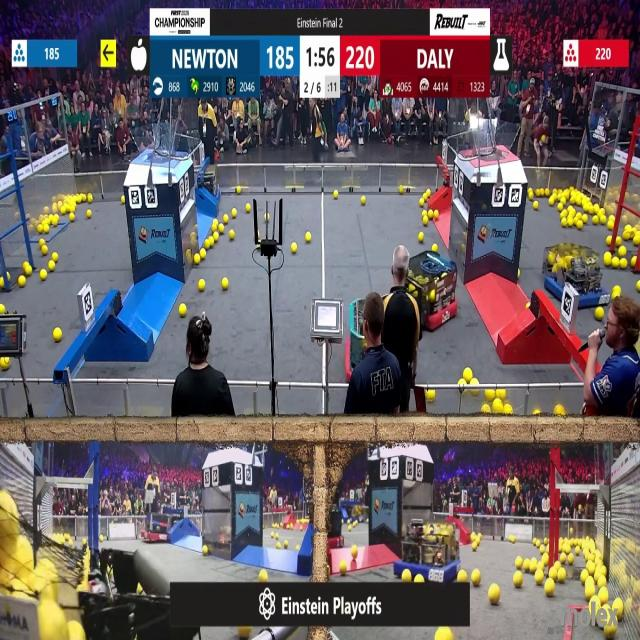ball_ground: (489, 586, 500, 605), (604, 625, 616, 640), (470, 569, 480, 585), (544, 581, 554, 597), (586, 584, 595, 600), (599, 589, 608, 604), (401, 569, 411, 582), (258, 568, 267, 582), (534, 570, 543, 584), (515, 571, 523, 586), (0, 357, 9, 370), (426, 389, 435, 402), (458, 570, 467, 582), (493, 399, 502, 411), (341, 560, 348, 575), (179, 305, 187, 318), (54, 328, 62, 341), (464, 367, 472, 380), (25, 265, 33, 278), (558, 569, 566, 582), (414, 573, 424, 583), (496, 388, 505, 399), (596, 308, 603, 321), (604, 252, 611, 265), (611, 255, 618, 268), (523, 559, 531, 570), (556, 407, 564, 418), (486, 389, 494, 400), (516, 558, 524, 568), (504, 406, 512, 416), (546, 568, 554, 578), (199, 280, 206, 291), (579, 571, 586, 582), (530, 559, 537, 570), (290, 242, 296, 254), (40, 270, 47, 280), (620, 247, 627, 257), (621, 260, 628, 270), (205, 239, 212, 249), (18, 276, 24, 287), (221, 279, 227, 290), (632, 256, 638, 267), (352, 544, 358, 555), (568, 554, 574, 565), (483, 406, 491, 414), (624, 233, 632, 241), (599, 215, 606, 224), (61, 206, 68, 215), (48, 263, 54, 273), (201, 249, 207, 259), (615, 286, 621, 296), (528, 188, 534, 198), (607, 220, 613, 230), (560, 554, 566, 564), (470, 378, 476, 388), (541, 555, 547, 565), (213, 234, 220, 242), (212, 222, 219, 230), (420, 210, 428, 217), (576, 220, 582, 229), (193, 255, 199, 264), (218, 223, 224, 232), (228, 230, 234, 239), (432, 210, 438, 219), (617, 237, 623, 246), (634, 238, 640, 247), (593, 215, 599, 224), (246, 204, 252, 213), (50, 252, 56, 261), (419, 233, 424, 243), (204, 544, 209, 554), (307, 233, 312, 243), (0, 305, 5, 315), (89, 192, 94, 202), (137, 586, 142, 596), (547, 198, 553, 206), (42, 247, 48, 255), (534, 202, 540, 210), (331, 190, 337, 198), (70, 213, 75, 222), (423, 217, 428, 226), (360, 197, 365, 206), (562, 218, 567, 227), (233, 209, 238, 218), (606, 237, 611, 246), (584, 214, 589, 223), (424, 189, 429, 198), (0, 278, 4, 289), (459, 379, 465, 386), (511, 535, 517, 542), (420, 200, 425, 208), (223, 215, 228, 223), (88, 210, 93, 218), (636, 282, 640, 292), (428, 210, 433, 218), (44, 224, 49, 232), (567, 218, 572, 226), (539, 544, 544, 552), (39, 240, 44, 248), (276, 542, 282, 548), (6, 274, 12, 280), (398, 186, 403, 193), (237, 186, 242, 193), (472, 542, 476, 550), (100, 534, 104, 542), (284, 540, 288, 548), (532, 538, 537, 544), (562, 211, 567, 217), (120, 198, 124, 205), (432, 245, 436, 252), (295, 544, 299, 550), (348, 526, 352, 532), (543, 538, 547, 544), (353, 521, 357, 527)
goal: (464, 121, 521, 160), (130, 129, 188, 161)
robot_blue: (544, 242, 606, 310), (399, 519, 462, 584), (196, 167, 222, 205), (343, 502, 369, 523)
robot_red: (404, 250, 457, 331), (57, 540, 94, 589), (140, 512, 180, 542)
